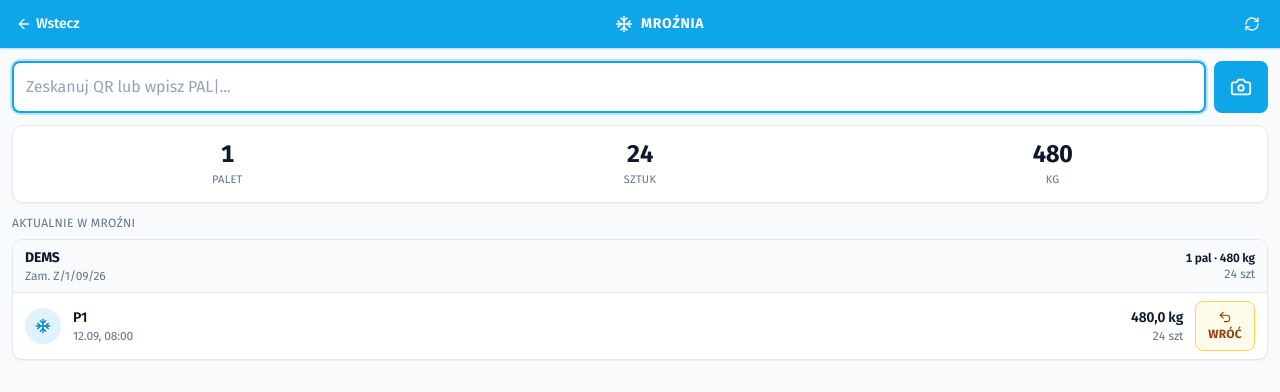
Test: cofnięcie palety z mroźni › po cofnięciu paleta znika z listy mroźni
The width and height of the screenshot is (1280, 392).
Click the button with test id "cofnij-o1-1" at (1225, 326), box [1195,301,1255,351]
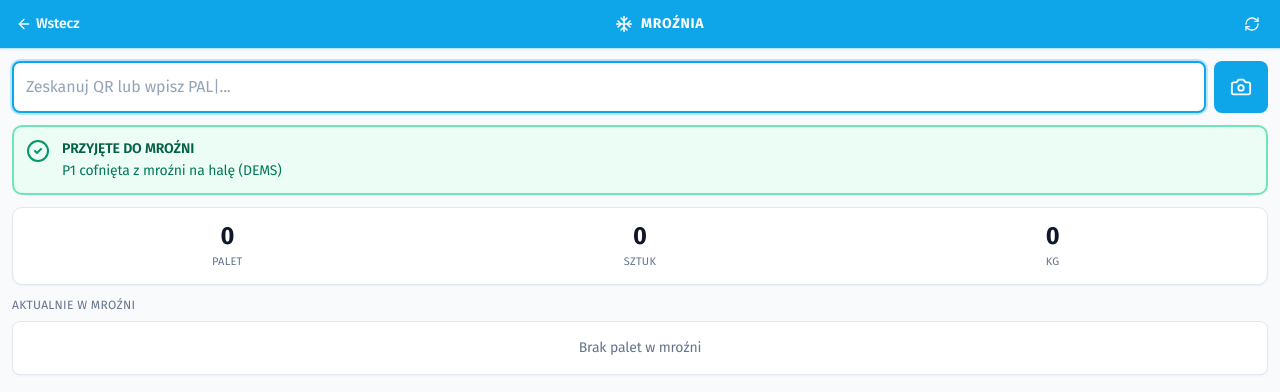
Expected: the button with test id "cofnij-o1-1" is gone
Expected: the text "Brak palet w mroźni" is shown, [12,321,1268,375]
